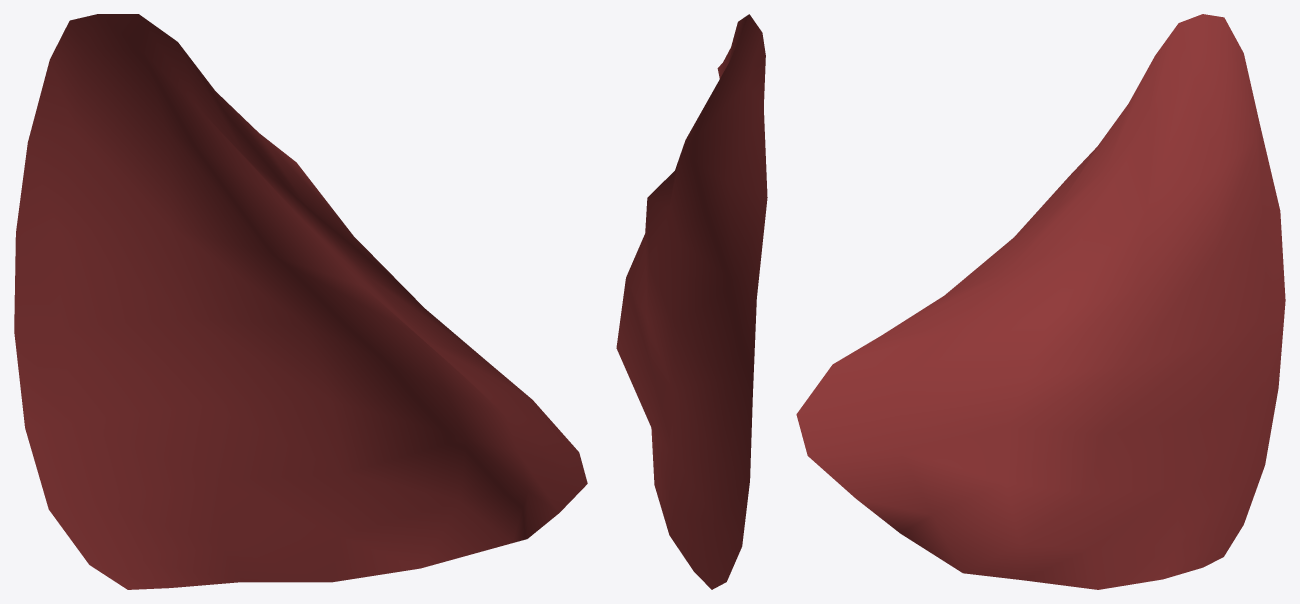
The model's file is inferior-subtendinous-bursa-of-biceps-femoris-muscle-l.glb.
The picture shows the model from 3 angles, left to right: view 1: azimuth 30°, elevation 25°; view 2: azimuth 150°, elevation 25°; view 3: azimuth 270°, elevation 25°; orthographic projection. The views are drawn at different scales.
Visible parts, largest first — view 1: Inferior subtendinous bursa of biceps femoris muscle.l; view 2: Inferior subtendinous bursa of biceps femoris muscle.l; view 3: Inferior subtendinous bursa of biceps femoris muscle.l.
Part boxes in pixels (x1,y1,x2,y2): Inferior subtendinous bursa of biceps femoris muscle.l: (14,14,587,589); Inferior subtendinous bursa of biceps femoris muscle.l: (616,14,767,589); Inferior subtendinous bursa of biceps femoris muscle.l: (796,14,1285,589).
Size of the model in its own units: 0.00936 by 0.0169 by 0.0142.
